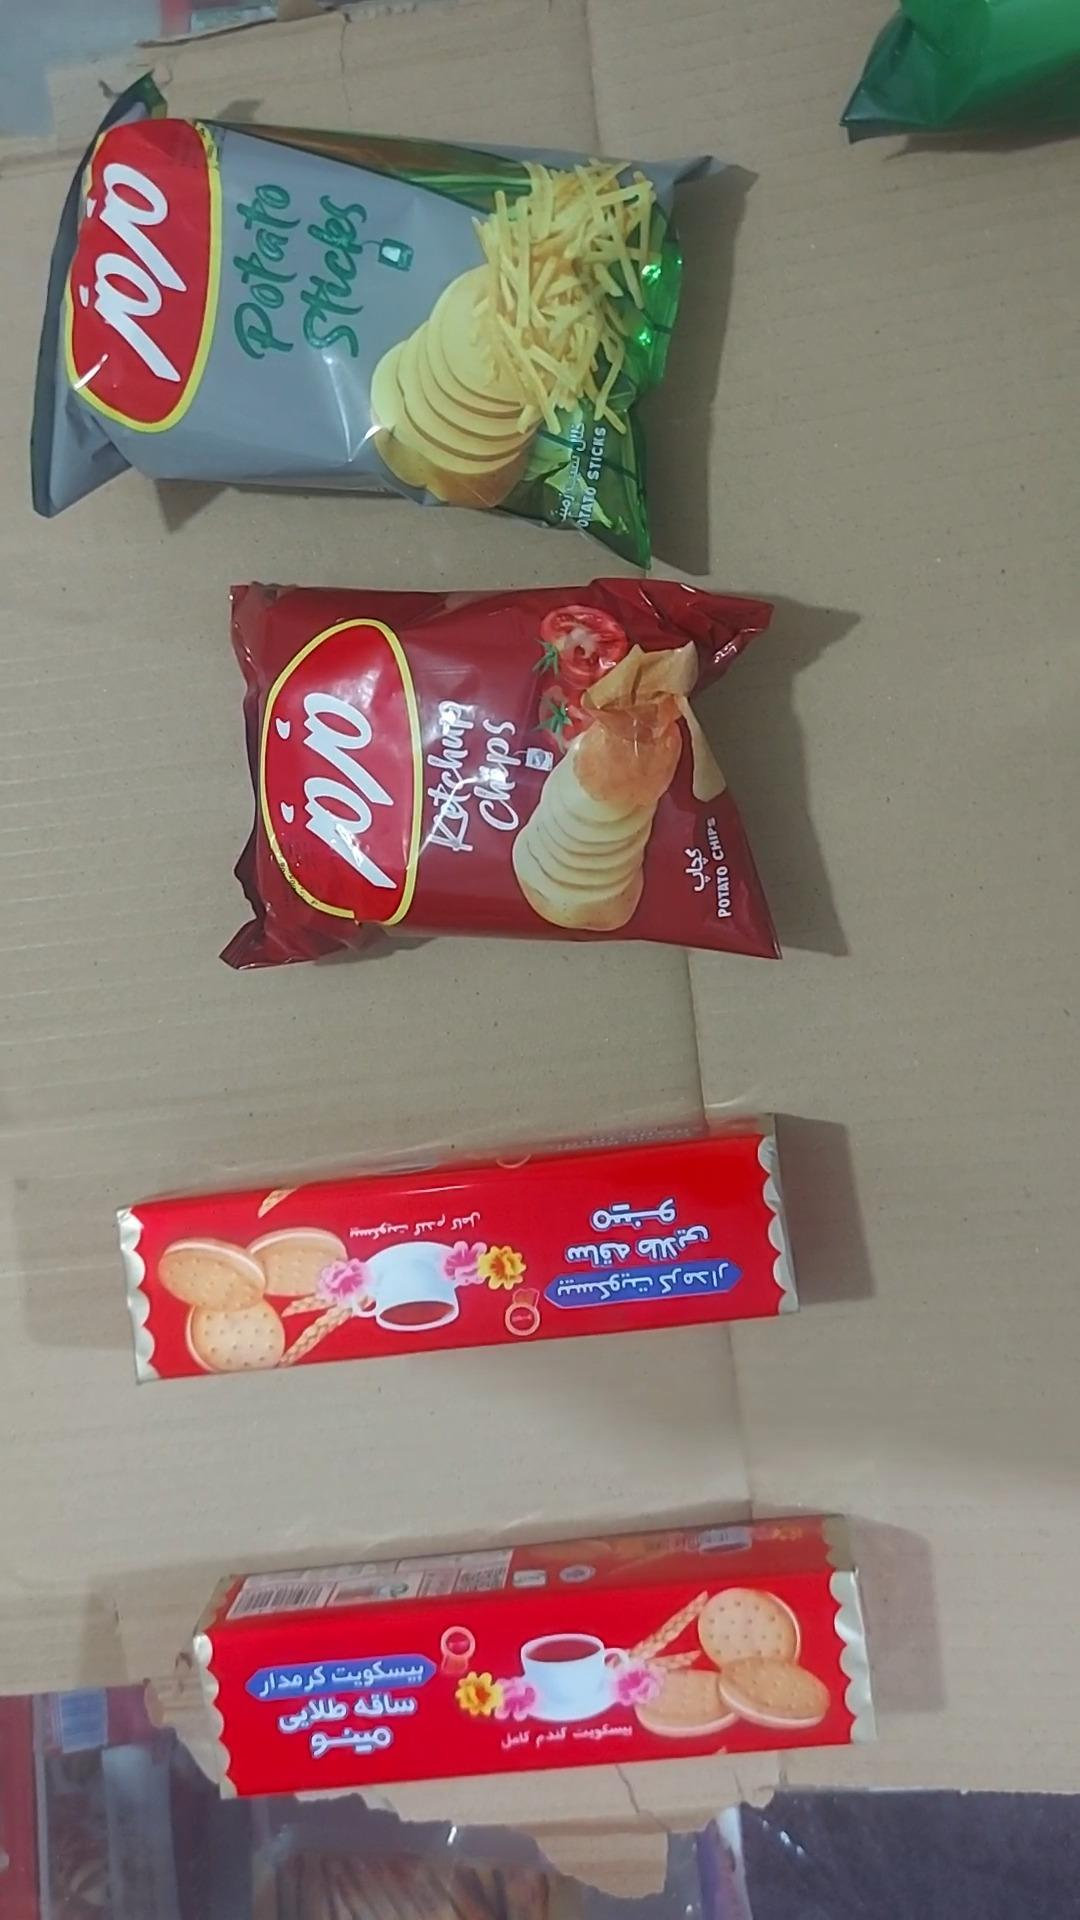Maz Maz ketchup chips: (220, 578, 781, 972)
Maz Maz potato sticks: (32, 73, 720, 570)
Minoo cream biscuit: (189, 1515, 872, 1797), (116, 1113, 800, 1385)
